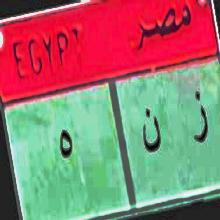5: (57, 122, 77, 168)
noon: (138, 104, 165, 164)
zay: (190, 87, 210, 162)
